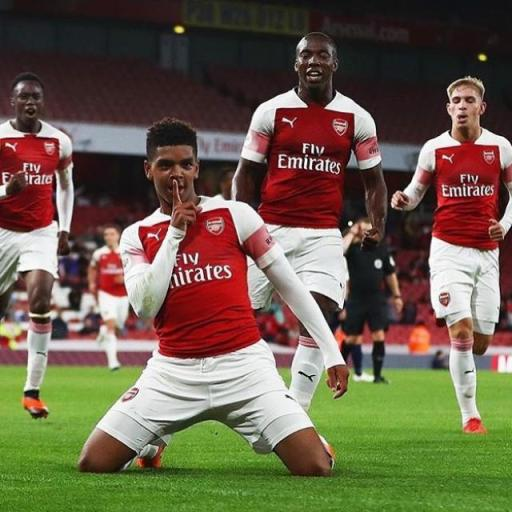Emirates: (277, 141, 343, 175)
